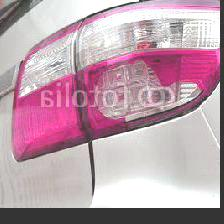tail_lamp: (80, 58, 204, 128)
